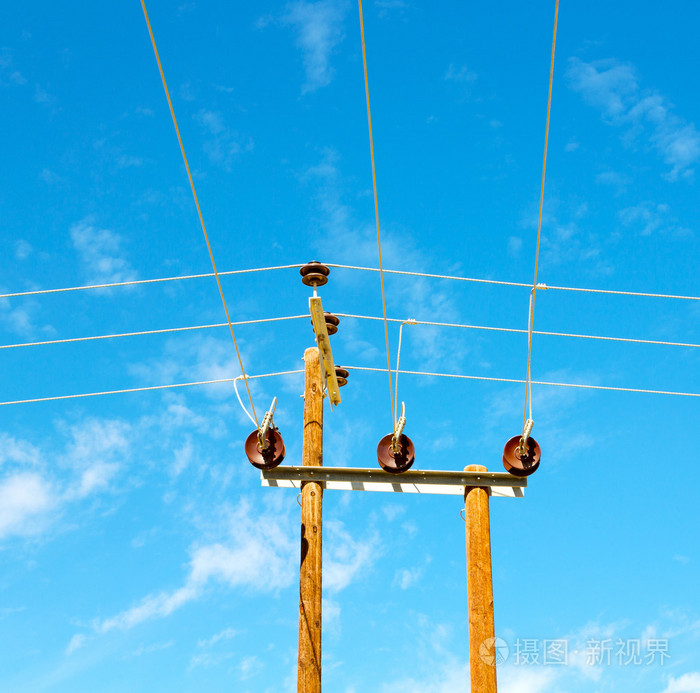insulator: (499, 434, 545, 476), (242, 428, 285, 471), (373, 432, 417, 471), (301, 262, 333, 286), (319, 313, 343, 335), (333, 363, 353, 389)
